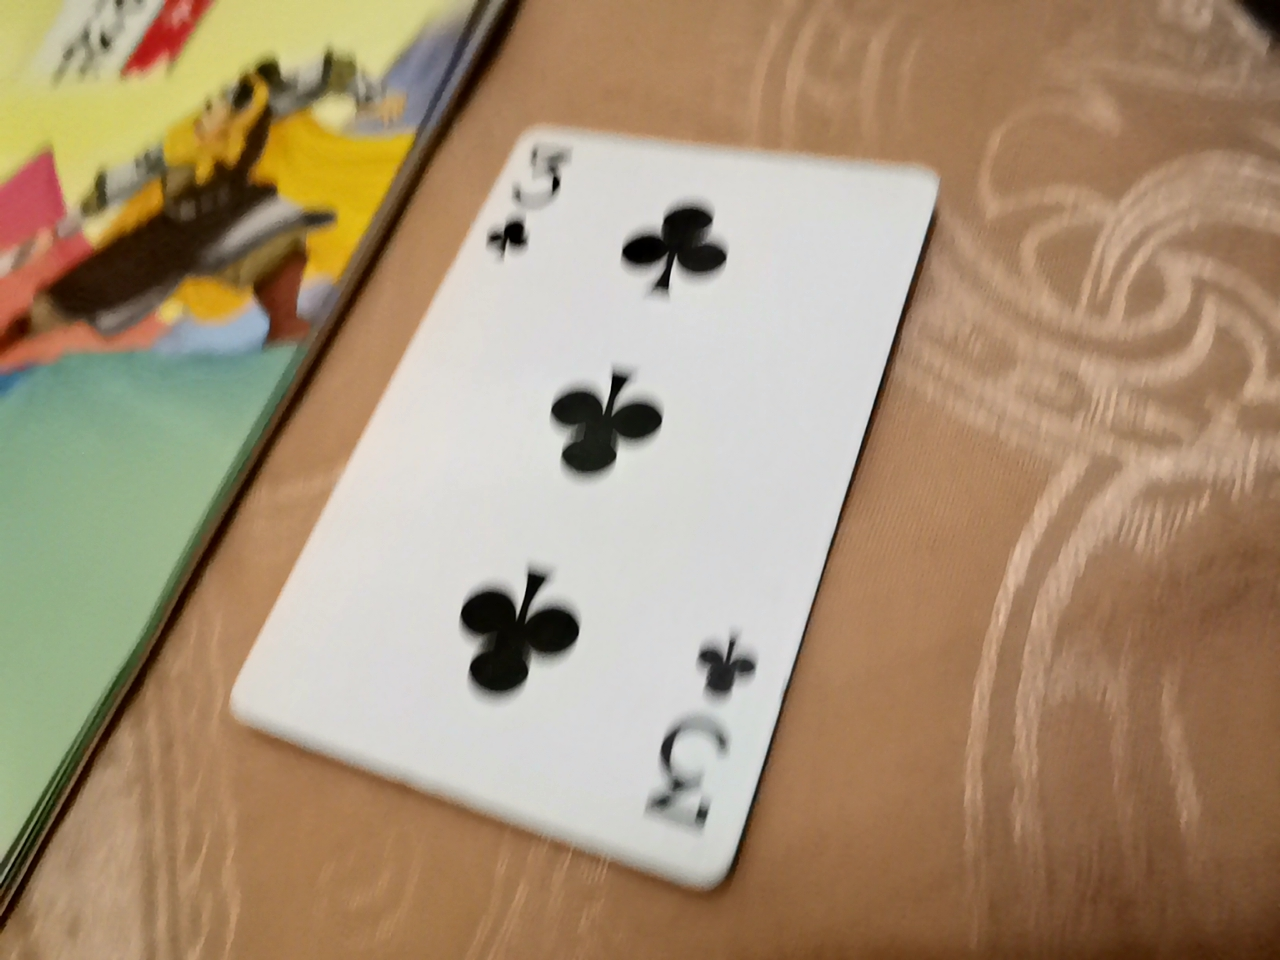mh 3: (236, 183, 940, 948)
